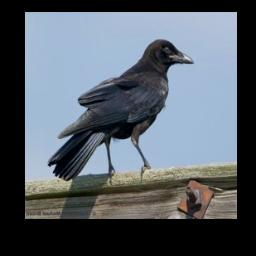Crow: (47, 39, 195, 181)
